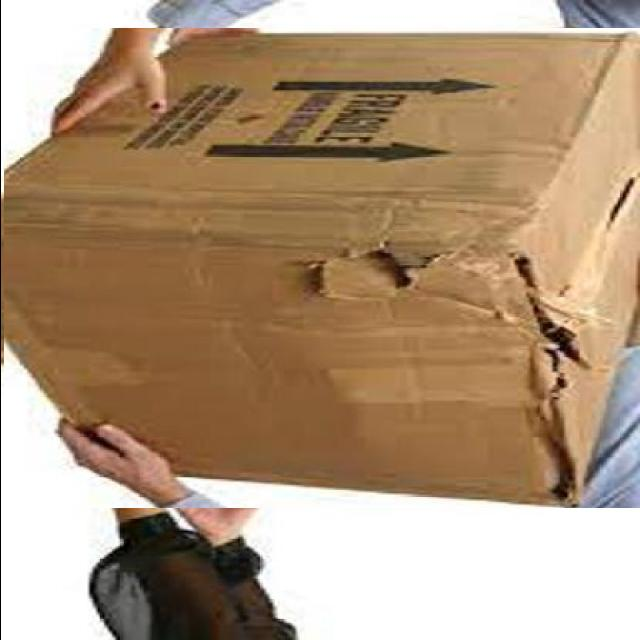defect: (3, 28, 639, 508)
